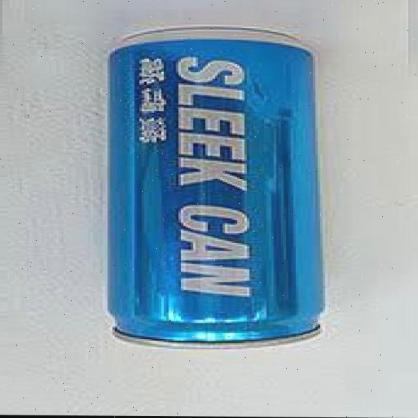can: (103, 24, 331, 353)
